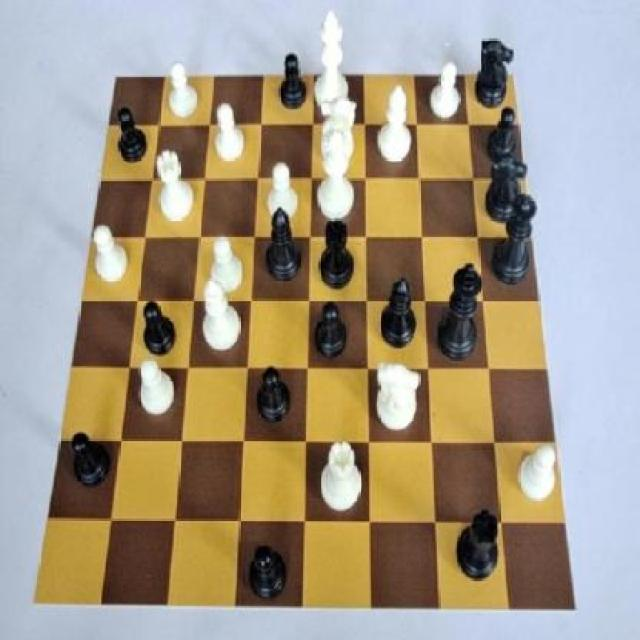bishop: (263, 203, 308, 288), (374, 269, 419, 350)
black-bishop: (434, 255, 491, 368)
black-king: (482, 148, 532, 230), (472, 29, 516, 113)
black-knight: (243, 535, 289, 608), (65, 425, 113, 492), (252, 360, 297, 431), (135, 294, 183, 359), (272, 48, 313, 119), (309, 294, 352, 360), (111, 100, 152, 168), (482, 101, 522, 167)
black-pawn: (488, 185, 544, 290)
black-queen: (449, 502, 507, 582), (314, 212, 361, 293)
black-rook: (196, 272, 244, 355), (374, 80, 416, 166)
white-bishop: (312, 5, 355, 113)
white-king: (364, 349, 428, 437), (314, 86, 360, 169)
white-knight: (515, 429, 560, 507), (134, 356, 183, 422), (88, 217, 134, 286), (426, 51, 465, 130), (206, 231, 248, 298), (263, 155, 302, 227), (163, 57, 203, 123), (208, 100, 248, 165)
white-pawn: (312, 125, 362, 227)
white-queen: (314, 431, 366, 512), (152, 150, 200, 226)
